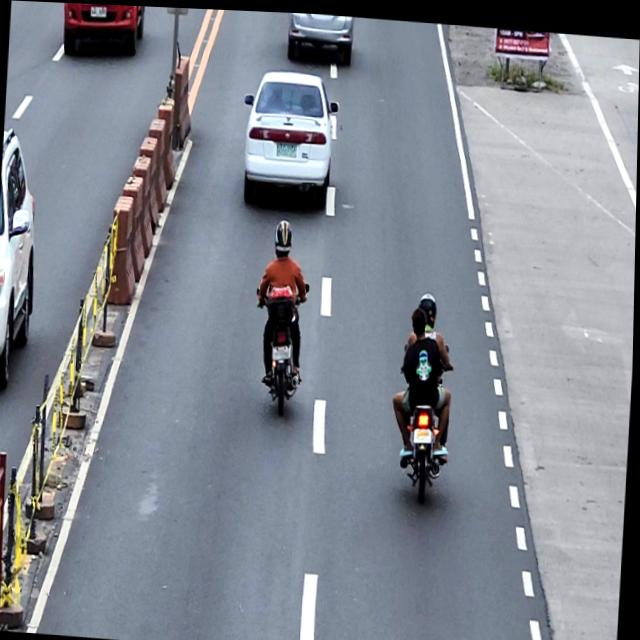Car: (239, 64, 341, 206), (0, 126, 43, 389), (60, 2, 144, 58), (286, 10, 354, 61)
License-Plate: (275, 139, 298, 156), (414, 424, 433, 439), (273, 343, 292, 358), (90, 4, 107, 17)
Motorcycle: (395, 336, 456, 501), (250, 276, 311, 415)
